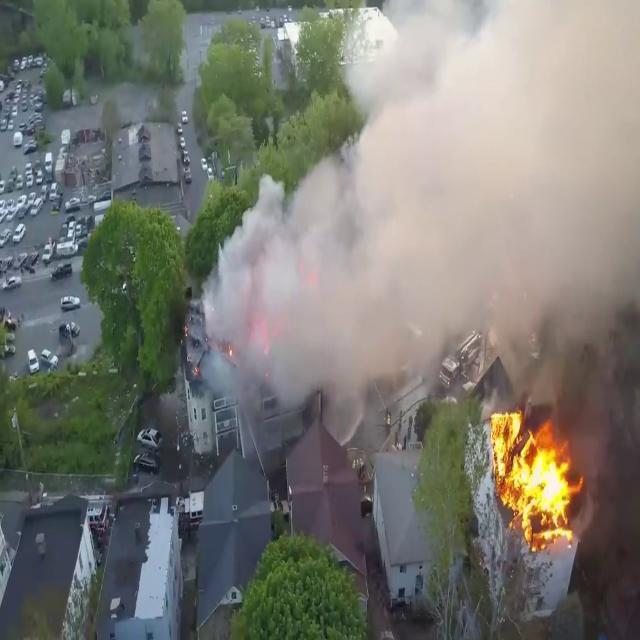Fire: (485, 401, 583, 545)
Smoke: (203, 0, 640, 441)
